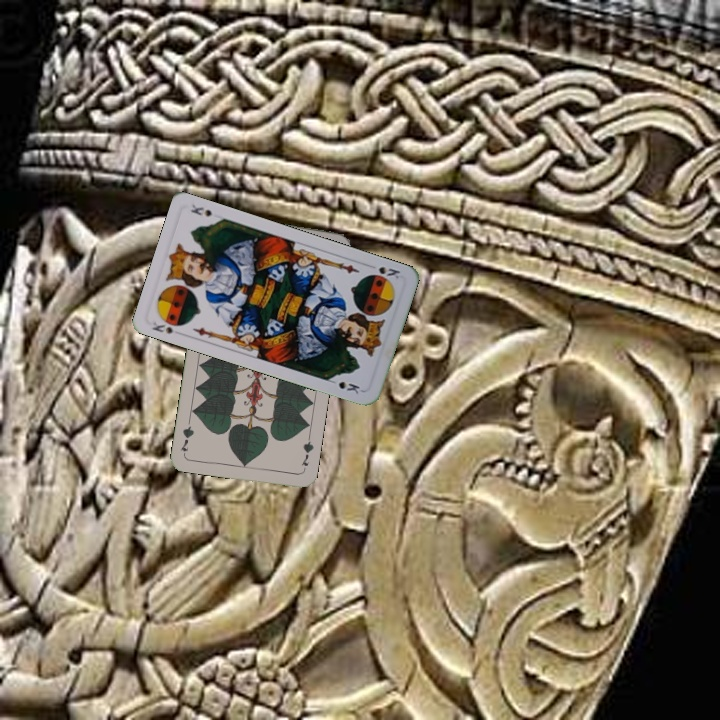G7: (298, 433, 316, 473)
SK: (366, 262, 403, 283), (148, 317, 176, 336)
